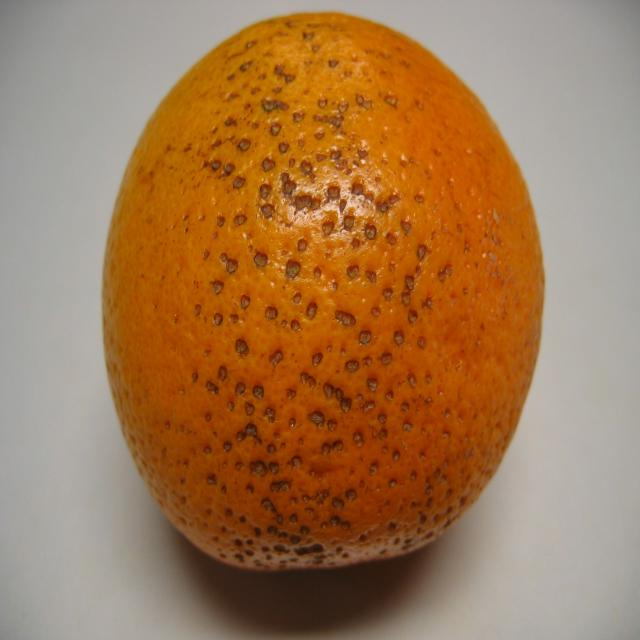Orange: (105, 8, 548, 571)
